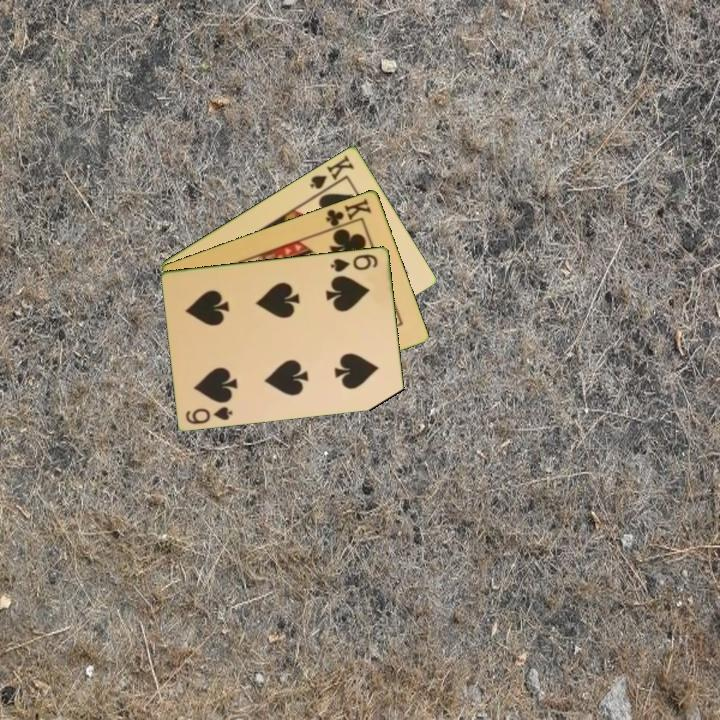6s: (327, 250, 381, 275), (182, 403, 236, 427)
Kc: (322, 195, 374, 233)
Ks: (306, 151, 357, 197)
